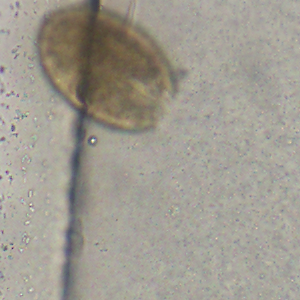Fasciola_hepatica_egg: (36, 4, 177, 132)
